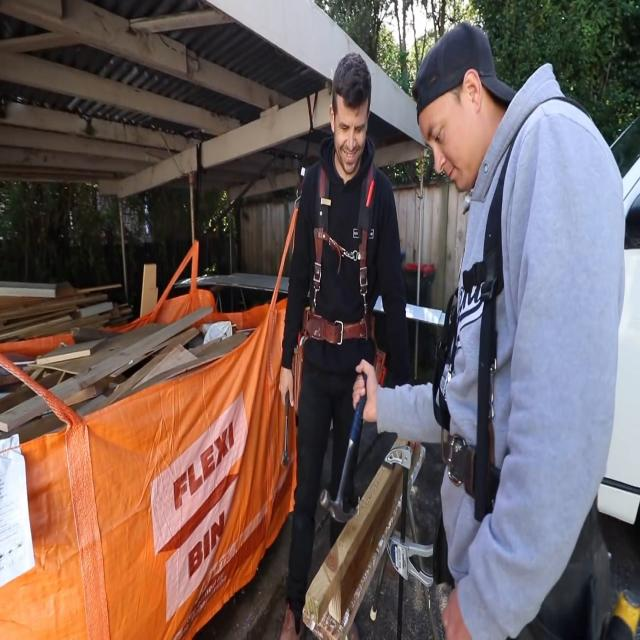hammer: (317, 373, 373, 527), (282, 386, 290, 464)
